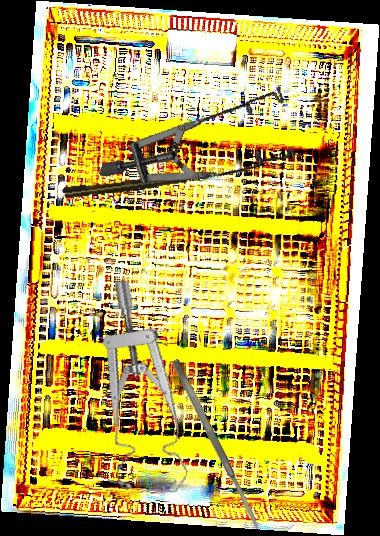Handpiece: (61, 169, 206, 200)
Spatula Surgical: (170, 357, 263, 533)
Speculum: (98, 38, 315, 235), (67, 278, 229, 504)
